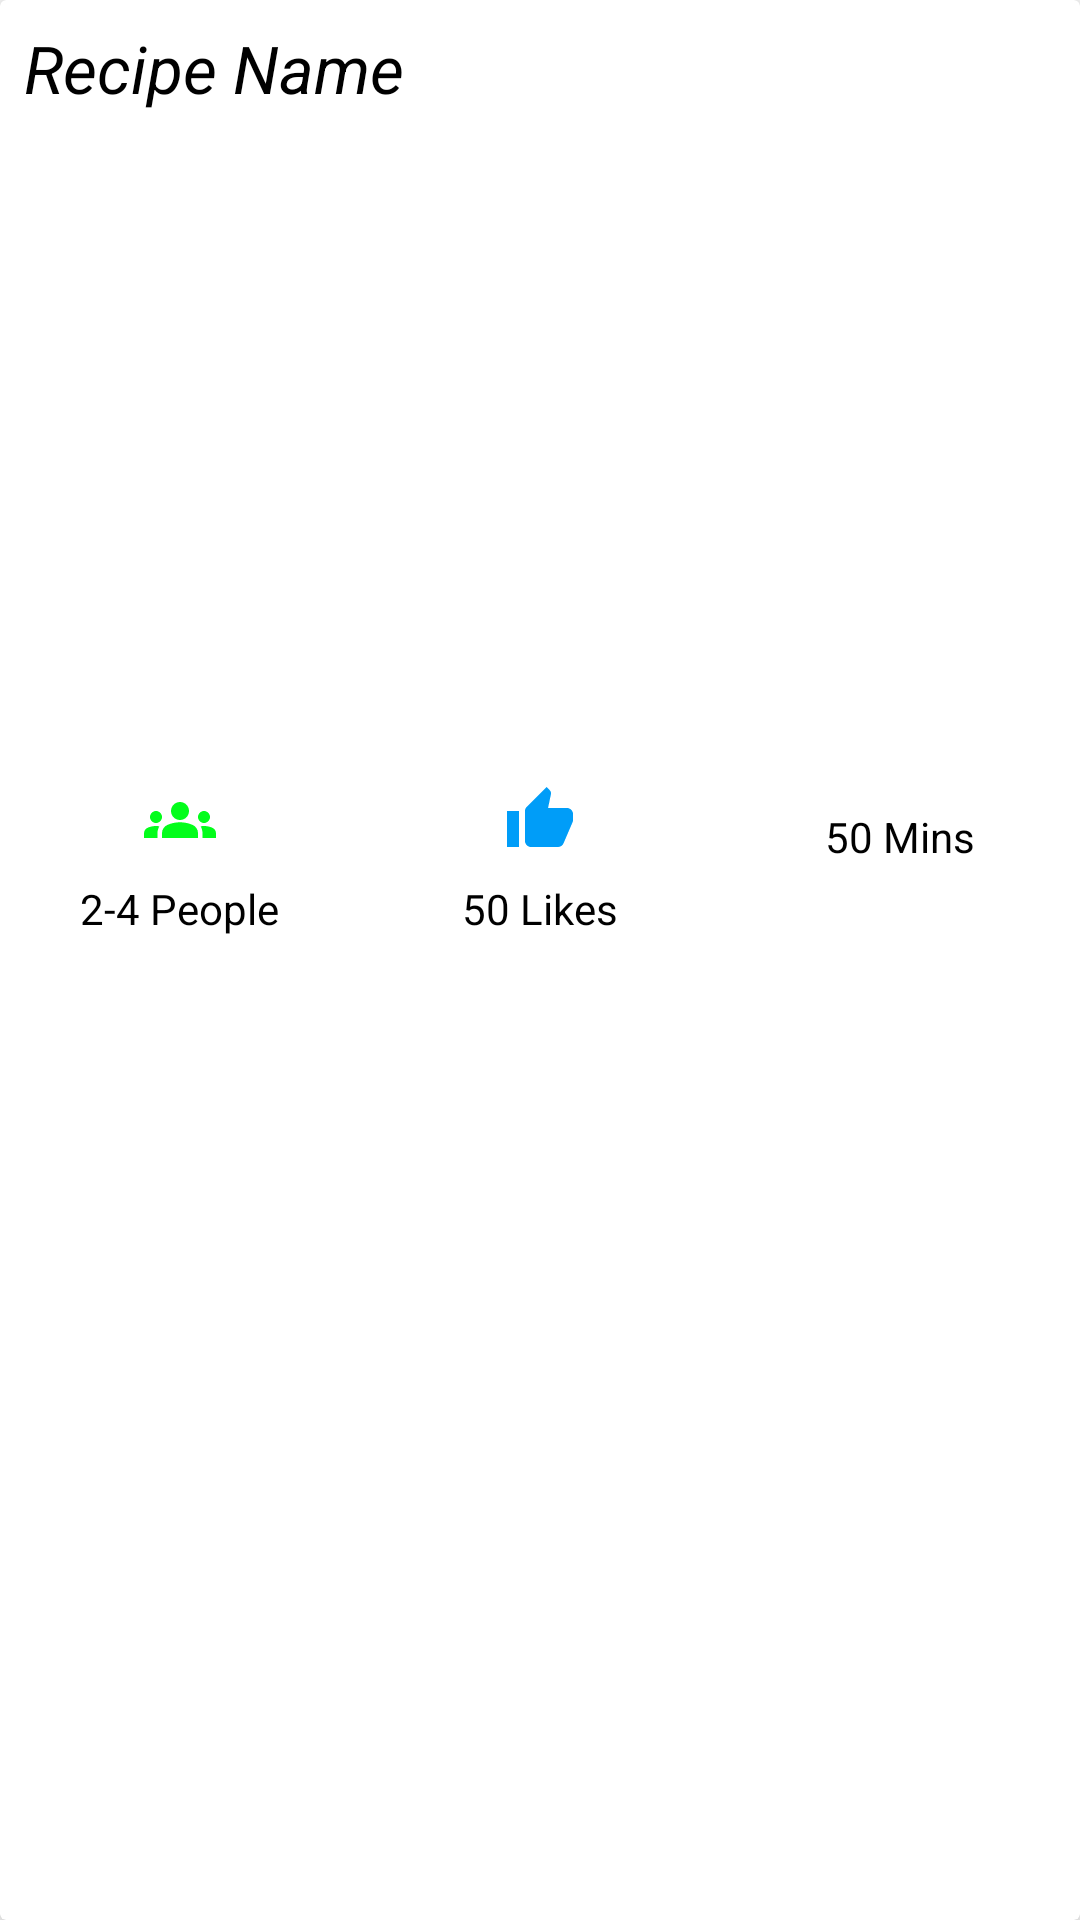

Icons on this 1080*1920 Android screen, each with the point to tap as (x,y):
groups: (180,820)
thumb up: (540,817)
